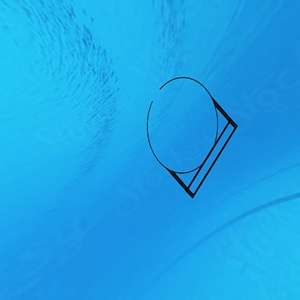circle: (141, 75, 238, 201)
